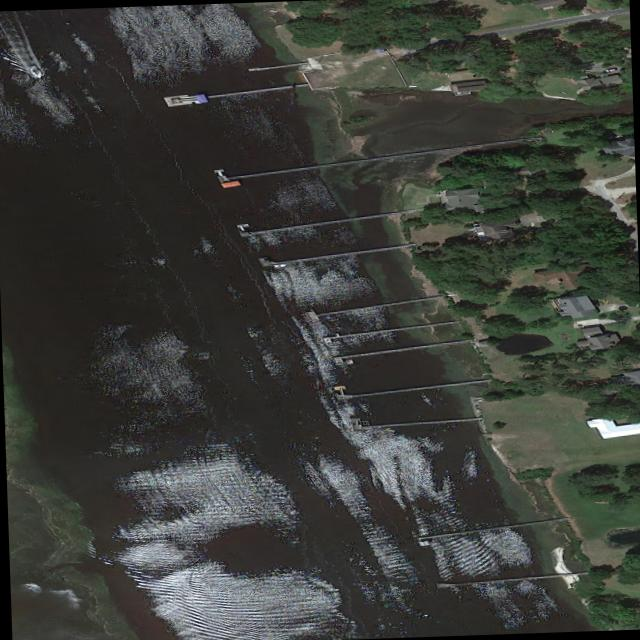ship: (23, 64, 44, 78), (270, 263, 286, 268)
small-vehicle: (603, 68, 616, 72)
